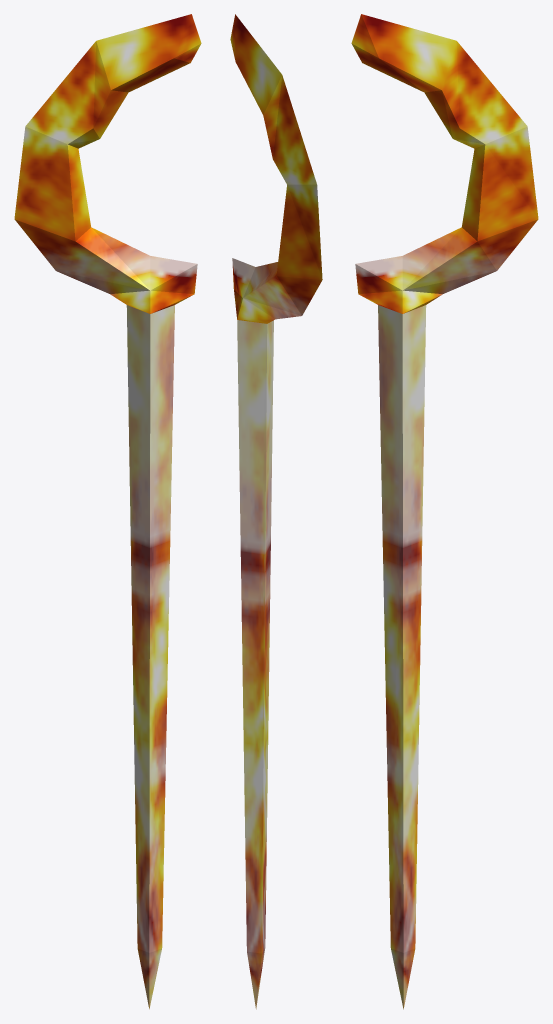
Rendered from wavemaster00_3.obj.
The picture shows the model from 3 angles, left to right: view 1: azimuth 90°, elevation 25°; view 2: azimuth 210°, elevation 25°; view 3: azimuth 270°, elevation 25°; orthographic projection.
Visible parts, largest first — view 1: wavemaster00_3; view 2: wavemaster00_3; view 3: wavemaster00_3.
Part boxes in pixels (bbox=[...]): wavemaster00_3: bbox=[14, 14, 201, 1009]; wavemaster00_3: bbox=[230, 14, 322, 1009]; wavemaster00_3: bbox=[351, 14, 538, 1009].
Bounding box in the file's own units: 0.055 × 1.39 × 0.2375.
